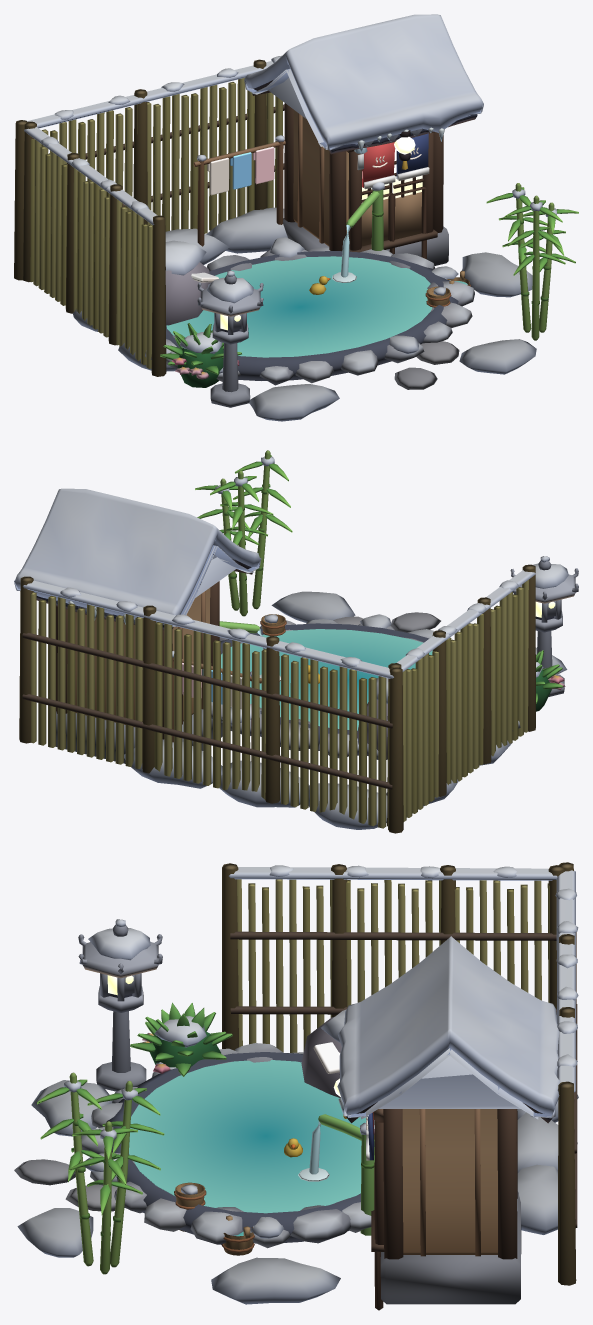
The model's file is rg-onsen-bathhouse.glb.
3 renders of one model, top to bottom at view 1: azimuth 30°, elevation 25°; view 2: azimuth 150°, elevation 25°; view 3: azimuth 270°, elevation 25°, orthographic. The views are drawn at different scales.
Parts seen in each view (by area): view 1: body, water, cloth, leaf, glow; view 2: body, water, leaf; view 3: body, water, leaf, cloth.
Part boxes in pixels (x1,y1,x2,y2): body: (14,14,556,421); water: (166,224,467,357); cloth: (191,133,429,282); leaf: (160,187,578,387); glow: (220,136,422,330); body: (14,450,578,833); water: (221,628,432,730); leaf: (195,455,563,711); body: (14,862,578,1310); water: (129,1060,374,1236); leaf: (37,1002,232,1215); cloth: (313,1042,374,1160).
Size of the model in its own units: 4.18 by 2.52 by 4.12.
